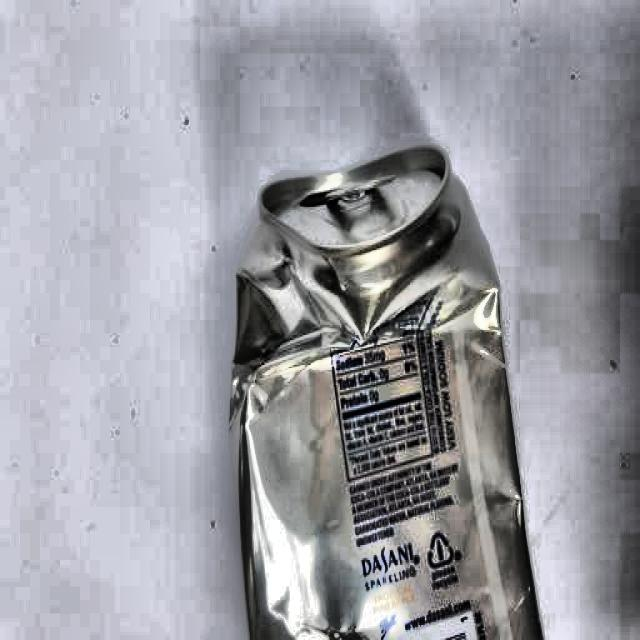metal: (230, 145, 547, 640)
